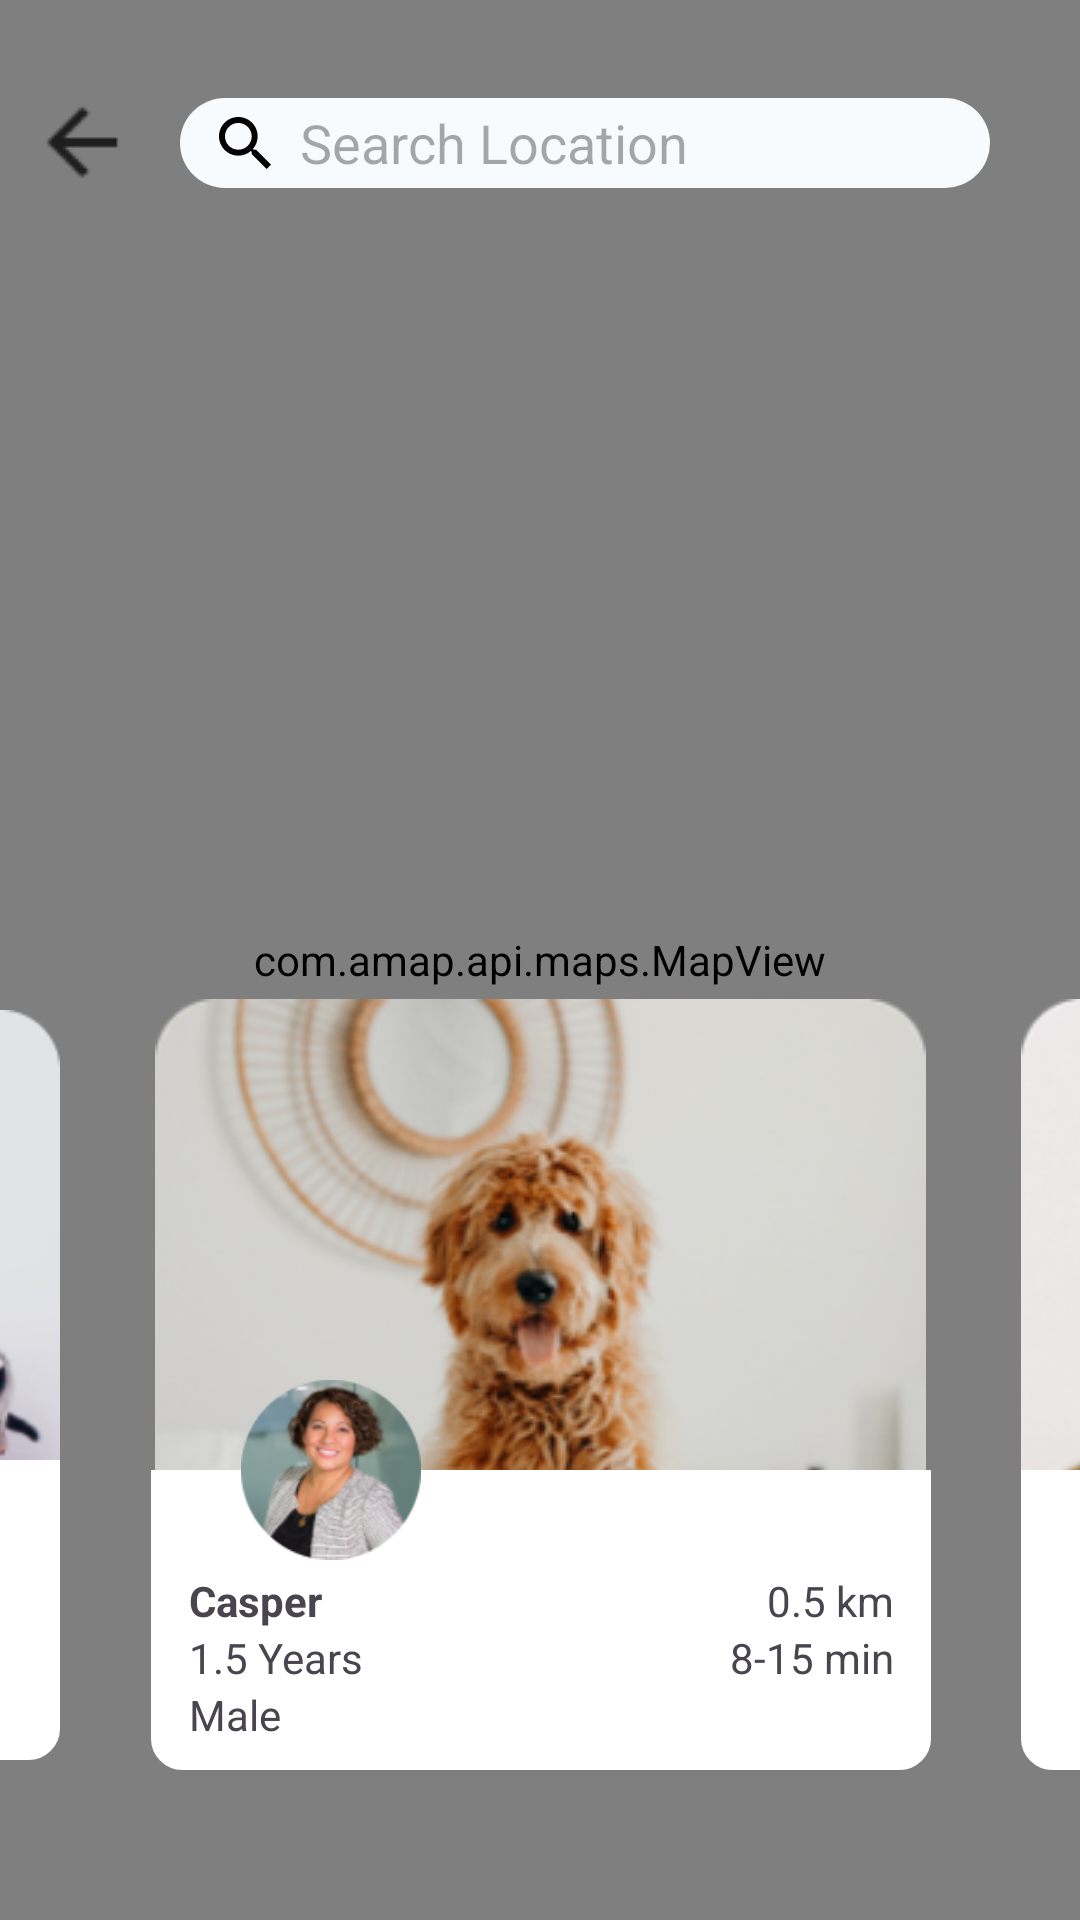

Locate icon controls on the screen. Image size 1080x1920, boxes as (x1,y1,x2,y2).
back: (47,107,118,177)
